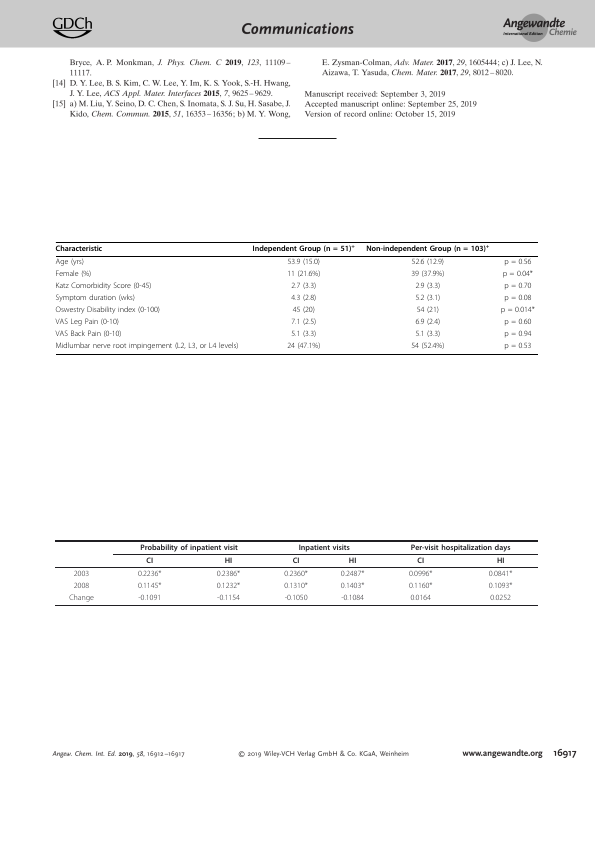borderless: (54, 241, 538, 354), (55, 539, 538, 605)
cell: (55, 342, 239, 351), (365, 243, 490, 254), (252, 243, 356, 254), (55, 306, 161, 316), (55, 282, 152, 292), (410, 543, 511, 552), (139, 543, 239, 552), (55, 294, 136, 304), (55, 330, 122, 339), (55, 318, 120, 327), (298, 543, 351, 552), (55, 245, 103, 254), (55, 270, 92, 280), (500, 306, 536, 316), (286, 258, 321, 268), (286, 270, 321, 280), (410, 270, 445, 280), (411, 258, 445, 268), (502, 270, 534, 280), (286, 342, 321, 351), (410, 342, 445, 351), (55, 258, 85, 268), (503, 258, 532, 268), (503, 282, 532, 292), (503, 294, 532, 304), (68, 593, 95, 603), (290, 282, 317, 292), (414, 282, 441, 292), (290, 294, 317, 304), (414, 294, 441, 304), (503, 318, 532, 327), (503, 330, 532, 339), (503, 342, 532, 351), (283, 569, 309, 579), (283, 581, 309, 591), (137, 569, 162, 579), (216, 569, 241, 579), (340, 569, 365, 579), (408, 569, 433, 579), (488, 569, 513, 579), (137, 581, 162, 591), (216, 581, 241, 591), (340, 581, 365, 591), (408, 581, 433, 591), (488, 581, 513, 591), (137, 593, 162, 603), (216, 593, 241, 603), (340, 593, 365, 603), (290, 318, 317, 327), (414, 318, 441, 327), (290, 330, 317, 339), (414, 330, 441, 339), (284, 593, 308, 603), (292, 306, 316, 316), (416, 306, 440, 316), (409, 593, 432, 603), (489, 593, 512, 603), (73, 569, 90, 579), (73, 581, 90, 591), (145, 556, 154, 566), (224, 556, 233, 566), (348, 556, 357, 566), (416, 556, 425, 566), (496, 556, 505, 566), (292, 556, 300, 566)
